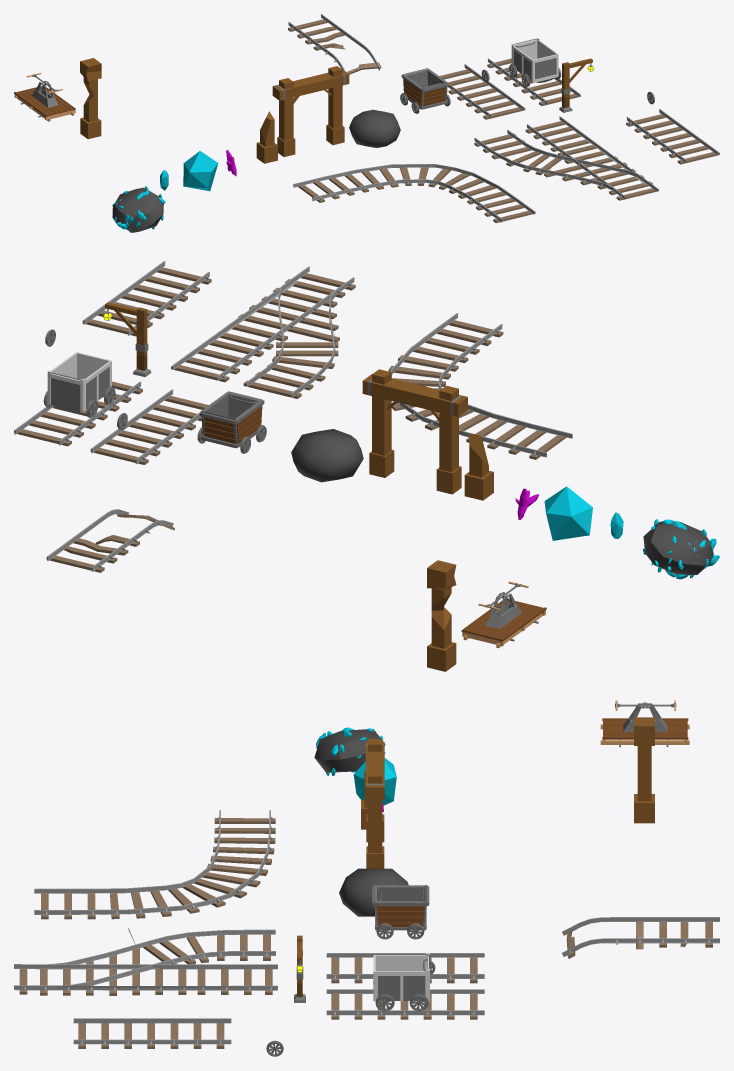
The model's file is Carrinho de mao Ferroviario fbx.fbx.
3 views of the same model, one above another, from view 1: azimuth 30°, elevation 25°; view 2: azimuth 150°, elevation 25°; view 3: azimuth 270°, elevation 25° (orthographic). The views are drawn at different scales.
Parts seen in each view (by area): view 1: Cube.003, Cube.007, Cube.001, Icosphere.029, Cube.009, Cube.005, Cube.008, NurbsPath.003, Icosphere, Cube.006, Cube.010, Cube.012 (+4 smaller); view 2: Cube.003, Cube.001, Cube.007, Cube.009, Icosphere.029, NurbsPath.003, Cube.008, Icosphere, Cube.005, Cube.006, Cube.012, Cube.010 (+4 smaller); view 3: Cube.003, Cube.007, Cube.005, Cube.009, NurbsPath.003, Cube.010, Cube.001, Cube.004, Cube.006, Icosphere.029, Cube.012, Cube.008 (+2 smaller).
Boxes of the visible parts, box(x1,y1,x2,y2) form: Cube.003: box(474, 116, 658, 200); Cube.007: box(293, 164, 535, 223); Cube.001: box(272, 66, 349, 156); Icosphere.029: box(112, 186, 165, 232); Cube.009: box(509, 38, 561, 86); Cube.005: box(626, 109, 719, 164); Cube.008: box(439, 64, 525, 119); NurbsPath.003: box(400, 68, 450, 113); Icosphere: box(349, 109, 400, 147); Cube.006: box(14, 72, 75, 121); Cube.010: box(288, 14, 381, 74); Cube.012: box(80, 58, 101, 139); Cube.003: box(171, 266, 355, 398); Cube.001: box(362, 369, 467, 494); Cube.007: box(388, 313, 572, 459); Cube.009: box(43, 352, 115, 417); Icosphere.029: box(643, 519, 719, 579); NurbsPath.003: box(197, 391, 266, 453); Cube.008: box(90, 389, 208, 464); Icosphere: box(291, 429, 363, 482); Cube.005: box(82, 261, 211, 336); Cube.006: box(461, 581, 546, 648); Cube.012: box(427, 560, 456, 671); Cube.010: box(46, 509, 174, 572); Cube.003: box(14, 928, 277, 995); Cube.007: box(34, 810, 275, 919); Cube.005: box(73, 1018, 231, 1048); Cube.009: box(373, 953, 429, 1010); NurbsPath.003: box(372, 885, 429, 939); Cube.010: box(562, 917, 719, 958); Cube.001: box(365, 738, 384, 868); Cube.004: box(326, 989, 484, 1019); Cube.006: box(600, 700, 689, 747); Icosphere.029: box(314, 727, 385, 775); Cube.012: box(634, 717, 654, 823); Cube.008: box(326, 953, 484, 983).
Size of the model in its own units: 3013 by 587 by 2689.
